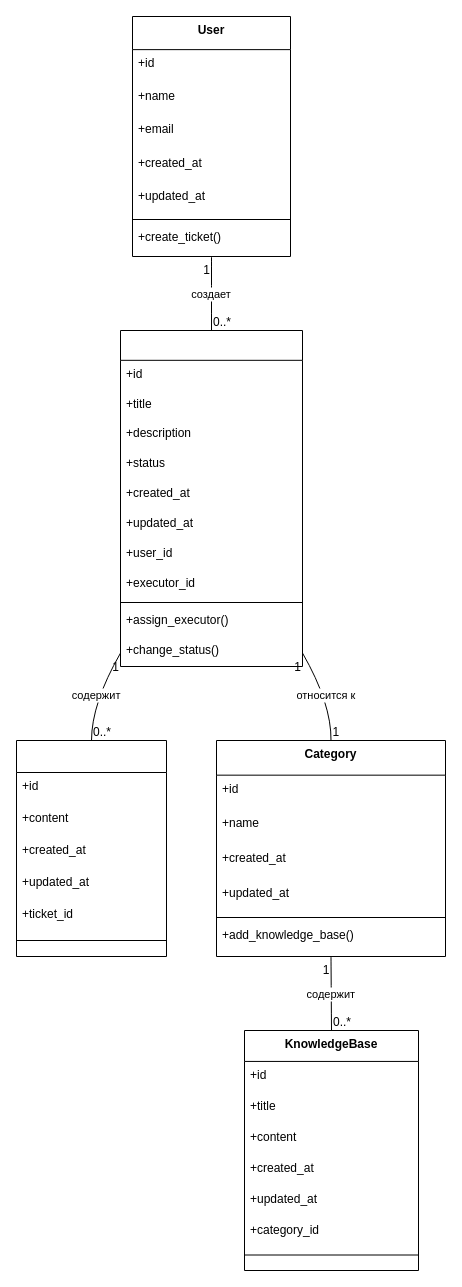
The diagram is 462 pixels wide and 1287 high, and some of its shapes have lost their labels. Each missing label, with the box of its shape:
Comment: (16, 740, 166, 956)
Ticket: (120, 330, 302, 666)
